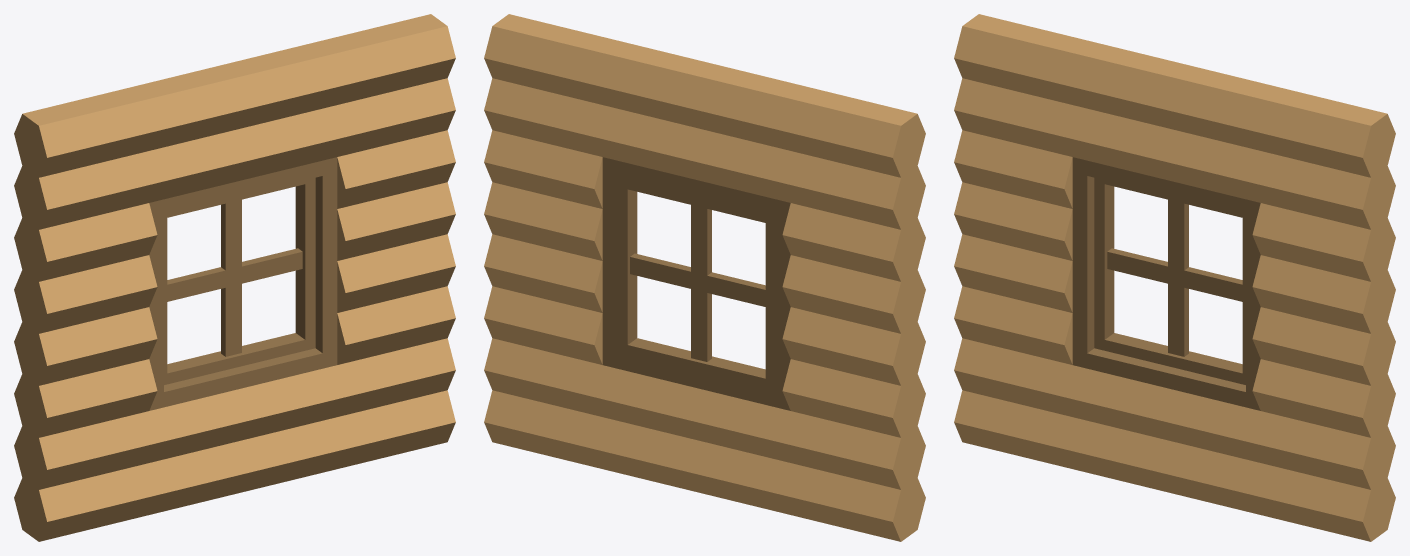
File: cabinWindow.fbx
The picture shows the model from 3 angles, left to right: view 1: azimuth 30°, elevation 25°; view 2: azimuth 150°, elevation 25°; view 3: azimuth 330°, elevation 25°; orthographic projection.
Parts seen in each view (by area): view 1: cabinWindow, frame 1; view 2: cabinWindow, frame 1; view 3: cabinWindow, frame 1.
Boxes of the visible parts, <box> form: cabinWindow: <box>14,14,455,541</box>; frame 1: <box>149,157,337,410</box>; cabinWindow: <box>484,14,925,541</box>; frame 1: <box>602,157,790,410</box>; cabinWindow: <box>954,14,1395,541</box>; frame 1: <box>1072,157,1260,410</box>.
Size of the model in its own units: 10 by 9.73 by 1.4.
